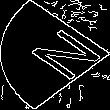N_SE: (11, 23, 99, 87)
